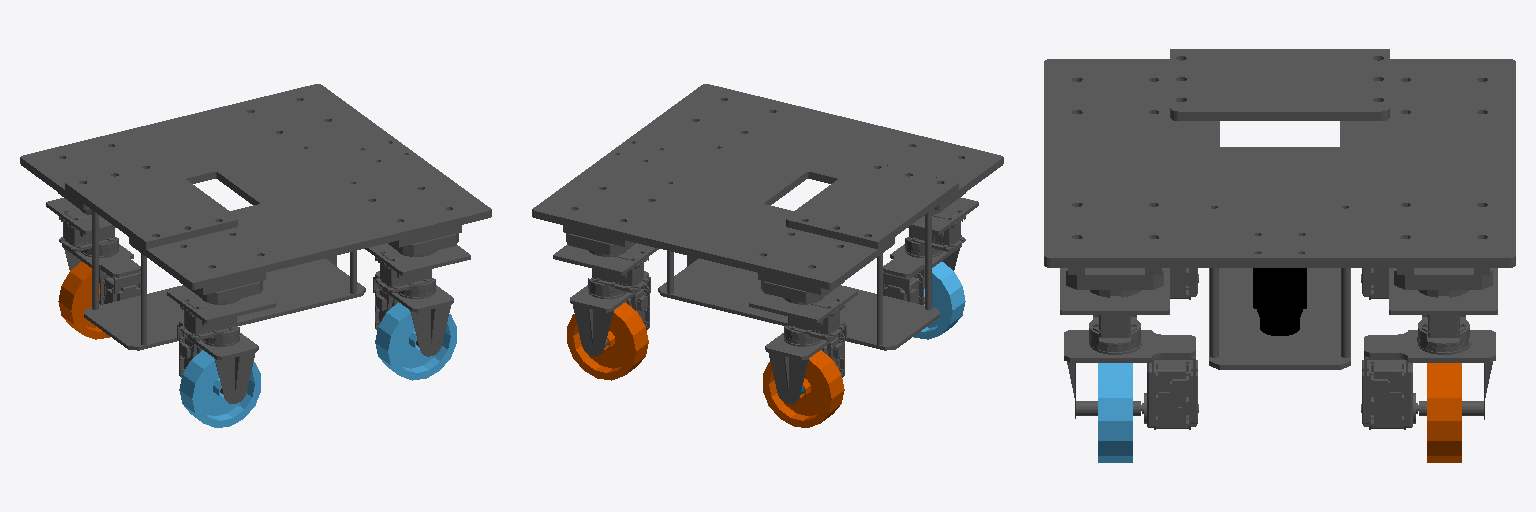
The robot description file, URDF, robot "spur":
<?xml version="1.0" ?>
<!-- =================================================================================== -->
<!-- |    This document was autogenerated by xacro from spur_robot.urdf.xacro          | -->
<!-- |    EDITING THIS FILE BY HAND IS NOT RECOMMENDED                                 | -->
<!-- =================================================================================== -->
<robot name="spur" xmlns:xacro="http://ros.org/wiki/xacro">
  <material name="Black">
    <color rgba="0.0 0.0 0.0 1.0"/>
  </material>
  <material name="Blue">
    <color rgba="0.0 0.0 0.8 1.0"/>
  </material>
  <material name="Green">
    <color rgba="0.0 0.8 0.0 1.0"/>
  </material>
  <material name="LightGrey">
    <color rgba="0.6 0.6 0.6 1.0"/>
  </material>
  <material name="Grey">
    <color rgba="0.4 0.4 0.4 1.0"/>
  </material>
  <material name="DarkGrey">
    <color rgba="0.2 0.2 0.2 1.0"/>
  </material>
  <material name="Red">
    <color rgba="0.8 0.0 0.0 1.0"/>
  </material>
  <material name="White">
    <color rgba="1.0 1.0 1.0 1.0"/>
  </material>
  <link name="base_footprint"/>
  <joint name="base_footprint_link_joint" type="fixed">
    <parent link="base_footprint"/>
    <child link="base"/>
    <origin xyz="0 0 0.23"/>
  </joint>
  <link name="base">
    <visual>
      <geometry>
        <mesh filename="package://spur_description/meshes/stl2/base.stl"/>
      </geometry>
      <material name="Grey"/>
      <origin xyz="0 0 0"/>
    </visual>
  </link>
  <!-- """"""""""""""""""""""""""""""""""""""fl""""""""""""""""""""""""""""""""""""""""""""""" -->
  <link name="fl_motor1">
    <visual>
      <geometry>
        <mesh filename="package://spur_description/meshes/stl2/angle_motor.stl"/>
      </geometry>
      <material name="Grey"/>
    </visual>
  </link>
  <link name="fl_motor2">
    <visual>
      <geometry>
        <mesh filename="package://spur_description/meshes/stl2/tire_motor.stl"/>
      </geometry>
      <origin rpy="0 0 4.71" xyz="0 0 0"/>
      <material name="Grey"/>
    </visual>
  </link>
  <link name="fl_shaft">
    <visual>
      <geometry>
        <mesh filename="package://spur_description/meshes/stl2/shaft.stl"/>
      </geometry>
      <material name="Grey"/>
      <origin xyz="0 0.0065 0"/>
    </visual>
  </link>
  <link name="fl_tire">
    <visual>
      <geometry>
        <mesh filename="package://spur_description/meshes/stl2/tire.stl"/>
      </geometry>
      <!-- origin xyz='0.153 -0.155 0.05'/ -->
    </visual>
  </link>
  <joint name="fl_base_link_joint" type="fixed">
    <parent link="base"/>
    <child link="fl_motor1"/>
    <origin xyz="0.14 0.15 -0.017"/>
  </joint>
  <joint name="fl_motor_link_joint" type="fixed">
    <parent link="fl_motor1"/>
    <child link="fl_motor2"/>
    <origin xyz="0.003 0 -0.098"/>
  </joint>
  <joint name="fl_motor2_link_joint" type="fixed">
    <parent link="fl_motor2"/>
    <child link="fl_shaft"/>
    <origin xyz="0 0 -0.065"/>
  </joint>
  <joint name="fl_shaft_link_joint" type="fixed">
    <parent link="fl_shaft"/>
    <child link="fl_tire"/>
    <origin xyz="0 0 0"/>
  </joint>
  <!-- """"""""""""""""""""""""""""""""""""""""""""""""""""""""""""""""""""""""""""""""""""""""" -->
  <!-- """"""""""""""""""""""""""""""""""""""fr""""""""""""""""""""""""""""""""""""""""""""""" -->
  <link name="fr_motor1">
    <visual>
      <geometry>
        <mesh filename="package://spur_description/meshes/stl2/angle_motor.stl"/>
      </geometry>
      <material name="Grey"/>
    </visual>
  </link>
  <link name="fr_motor2">
    <visual>
      <geometry>
        <mesh filename="package://spur_description/meshes/stl2/tire_motor.stl"/>
      </geometry>
      <origin rpy="0 0 1.57" xyz="0 0 0"/>
      <material name="Grey"/>
    </visual>
  </link>
  <link name="fr_shaft">
    <visual>
      <geometry>
        <mesh filename="package://spur_description/meshes/stl2/shaft.stl"/>
      </geometry>
      <material name="Grey"/>
      <origin xyz="0 -0.0065 0"/>
    </visual>
  </link>
  <link name="fr_tire">
    <visual>
      <geometry>
        <mesh filename="package://spur_description/meshes/stl2/tire.stl"/>
      </geometry>
      <!-- origin xyz='0.153 -0.155 0.05'/ -->
    </visual>
  </link>
  <joint name="fr_base_link_joint" type="fixed">
    <parent link="base"/>
    <child link="fr_motor1"/>
    <origin xyz="0.14 -0.15 -0.017"/>
  </joint>
  <joint name="fr_motor_link_joint" type="fixed">
    <parent link="fr_motor1"/>
    <child link="fr_motor2"/>
    <origin xyz="0.003 0 -0.098"/>
  </joint>
  <joint name="fr_motor2_link_joint" type="fixed">
    <parent link="fr_motor2"/>
    <child link="fr_shaft"/>
    <origin xyz="0 0 -0.065"/>
  </joint>
  <joint name="fr_shaft_link_joint" type="fixed">
    <parent link="fr_shaft"/>
    <child link="fr_tire"/>
    <origin xyz="0 0 0"/>
  </joint>
  <!-- """"""""""""""""""""""""""""""""""""""""""""""""""""""""""""""""""""""""""""""""""""""""" -->
  <!-- """"""""""""""""""""""""""""""""""""""bl""""""""""""""""""""""""""""""""""""""""""""""" -->
  <link name="bl_motor1">
    <visual>
      <geometry>
        <mesh filename="package://spur_description/meshes/stl2/angle_motor.stl"/>
      </geometry>
      <material name="Grey"/>
    </visual>
  </link>
  <link name="bl_motor2">
    <visual>
      <geometry>
        <mesh filename="package://spur_description/meshes/stl2/tire_motor.stl"/>
      </geometry>
      <origin rpy="0 0 4.71" xyz="0 0 0"/>
      <material name="Grey"/>
    </visual>
  </link>
  <link name="bl_shaft">
    <visual>
      <geometry>
        <mesh filename="package://spur_description/meshes/stl2/shaft.stl"/>
      </geometry>
      <materkal name="Grey"/>
      <origin xyz="0 0.0065 0"/>
    </visual>
  </link>
  <link name="bl_tire">
    <visual>
      <geometry>
        <mesh filename="package://spur_description/meshes/stl2/tire.stl"/>
      </geometry>
      <!-- origin xyz='0.153 -0.155 0.05'/ -->
    </visual>
  </link>
  <joint name="bl_base_link_joint" type="fixed">
    <parent link="base"/>
    <child link="bl_motor1"/>
    <origin xyz="-0.14 0.15 -0.017"/>
  </joint>
  <joint name="bl_motor_link_joint" type="fixed">
    <parent link="bl_motor1"/>
    <child link="bl_motor2"/>
    <origin xyz="0.003 0 -0.098"/>
  </joint>
  <joint name="bl_motor2_link_joint" type="fixed">
    <parent link="bl_motor2"/>
    <child link="bl_shaft"/>
    <origin xyz="0 0 -0.065"/>
  </joint>
  <joint name="bl_shaft_link_joint" type="fixed">
    <parent link="bl_shaft"/>
    <child link="bl_tire"/>
    <origin xyz="0 0 0"/>
  </joint>
  <!-- """"""""""""""""""""""""""""""""""""""""""""""""""""""""""""""""""""""""""""""""""""""""" -->
  <!-- """"""""""""""""""""""""""""""""""""""br""""""""""""""""""""""""""""""""""""""""""""""" -->
  <link name="br_motor1">
    <visual>
      <geometry>
        <mesh filename="package://spur_description/meshes/stl2/angle_motor.stl"/>
      </geometry>
      <material name="Grey"/>
    </visual>
  </link>
  <link name="br_motor2">
    <visual>
      <geometry>
        <mesh filename="package://spur_description/meshes/stl2/tire_motor.stl"/>
      </geometry>
      <origin rpy="0 0 1.57" xyz="0 0 0"/>
      <material name="Grey"/>
    </visual>
  </link>
  <link name="br_shaft">
    <visual>
      <geometry>
        <mesh filename="package://spur_description/meshes/stl2/shaft.stl"/>
      </geometry>
      <origin xyz="0 -0.0065 0"/>
      <material name="Grey"/>
    </visual>
  </link>
  <link name="br_tire">
    <visual>
      <geometry>
        <mesh filename="package://spur_description/meshes/stl2/tire.stl"/>
      </geometry>
      <!-- origin xyz='0.153 -0.155 0.05'/ -->
    </visual>
  </link>
  <joint name="br_base_link_joint" type="fixed">
    <parent link="base"/>
    <child link="br_motor1"/>
    <origin xyz="-0.14 -0.15 -0.017"/>
  </joint>
  <joint name="br_motor_link_joint" type="fixed">
    <parent link="br_motor1"/>
    <child link="br_motor2"/>
    <origin xyz="0.003 0 -0.098"/>
  </joint>
  <joint name="br_motor2_link_joint" type="fixed">
    <parent link="br_motor2"/>
    <child link="br_shaft"/>
    <origin xyz="0 0 -0.065"/>
  </joint>
  <joint name="br_shaft_link_joint" type="fixed">
    <parent link="br_shaft"/>
    <child link="br_tire"/>
    <origin xyz="0 0 0"/>
  </joint>
  <!-- """"""""""""""""""""""""""""""""""""""""""""""""""""""""""""""""""""""""""""""""""""""""" -->
  <link name="urg_sensor" type="fixed">
    <visual>
      <geometry>
        p
	      
        <mesh filename="package://spur_description/meshes/stl2/lrf.stl"/>
      </geometry>
      <origin xyz="0 0 0.05"/>
      <material name="Black"/>
    </visual>
  </link>
  <joint name="urg_sensor" type="fixed">
    <parent link="base"/>
    <child link="urg_sensor"/>
    <origin xyz="0.183 0 -0.055"/>
  </joint>
</robot>

--- Render facts (derived) ---
The picture shows the robot from 3 angles, left to right: view 1: azimuth 30°, elevation 25°; view 2: azimuth 150°, elevation 25°; view 3: azimuth 270°, elevation 25°; orthographic projection.
Model spur with 19 links and 18 joints (18 fixed), rooted at base_footprint, posed every joint at zero.
Links seen in each view (by area): view 1: base, br_motor1, fr_motor1, fr_tire, br_tire, br_motor2, fr_motor2, bl_motor2, bl_motor1, bl_tire; view 2: base, bl_motor1, fl_motor1, bl_tire, fl_tire, fl_motor2, bl_motor2, br_motor2, br_motor1, br_tire; view 3: base, fr_motor1, fl_motor1, fr_motor2, fl_motor2, fl_tire, fr_tire, urg_sensor, br_motor2, bl_motor2.
Link boxes in pixels (x1=…): base: x1=20, y1=84, x2=491, y2=350; br_motor1: x1=167, y1=273, x2=275, y2=344; fr_motor1: x1=365, y1=225, x2=470, y2=296; fr_tire: x1=375, y1=302, x2=456, y2=380; br_tire: x1=179, y1=350, x2=260, y2=427; br_motor2: x1=177, y1=319, x2=258, y2=403; fr_motor2: x1=373, y1=271, x2=453, y2=356; bl_motor2: x1=62, y1=244, x2=140, y2=304; bl_motor1: x1=46, y1=193, x2=118, y2=255; bl_tire: x1=58, y1=262, x2=109, y2=339; base: x1=532, y1=84, x2=1003, y2=350; bl_motor1: x1=749, y1=273, x2=857, y2=344; fl_motor1: x1=553, y1=225, x2=658, y2=296; bl_tire: x1=763, y1=350, x2=844, y2=427; fl_tire: x1=567, y1=302, x2=648, y2=380; fl_motor2: x1=570, y1=271, x2=650, y2=356; bl_motor2: x1=765, y1=319, x2=846, y2=403; br_motor2: x1=883, y1=244, x2=961, y2=304; br_motor1: x1=905, y1=193, x2=978, y2=255; br_tire: x1=914, y1=262, x2=965, y2=339; base: x1=1044, y1=49, x2=1515, y2=369; fr_motor1: x1=1060, y1=268, x2=1169, y2=352; fl_motor1: x1=1389, y1=268, x2=1497, y2=352; fr_motor2: x1=1064, y1=330, x2=1198, y2=429; fl_motor2: x1=1361, y1=330, x2=1495, y2=429; fl_tire: x1=1427, y1=363, x2=1461, y2=462; fr_tire: x1=1098, y1=363, x2=1132, y2=462; urg_sensor: x1=1253, y1=268, x2=1306, y2=335; br_motor2: x1=1170, y1=268, x2=1198, y2=299; bl_motor2: x1=1361, y1=268, x2=1388, y2=299.
Bounding box of the posed robot: 0.43 × 0.43 × 0.2447 m (x, y, z).
18 mesh visuals loaded from 6 distinct referenced files (6 binary STL).